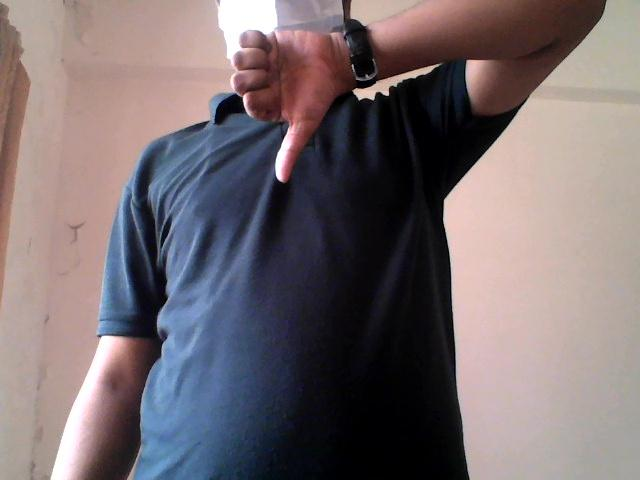thumbs-down: (213, 4, 389, 190)
